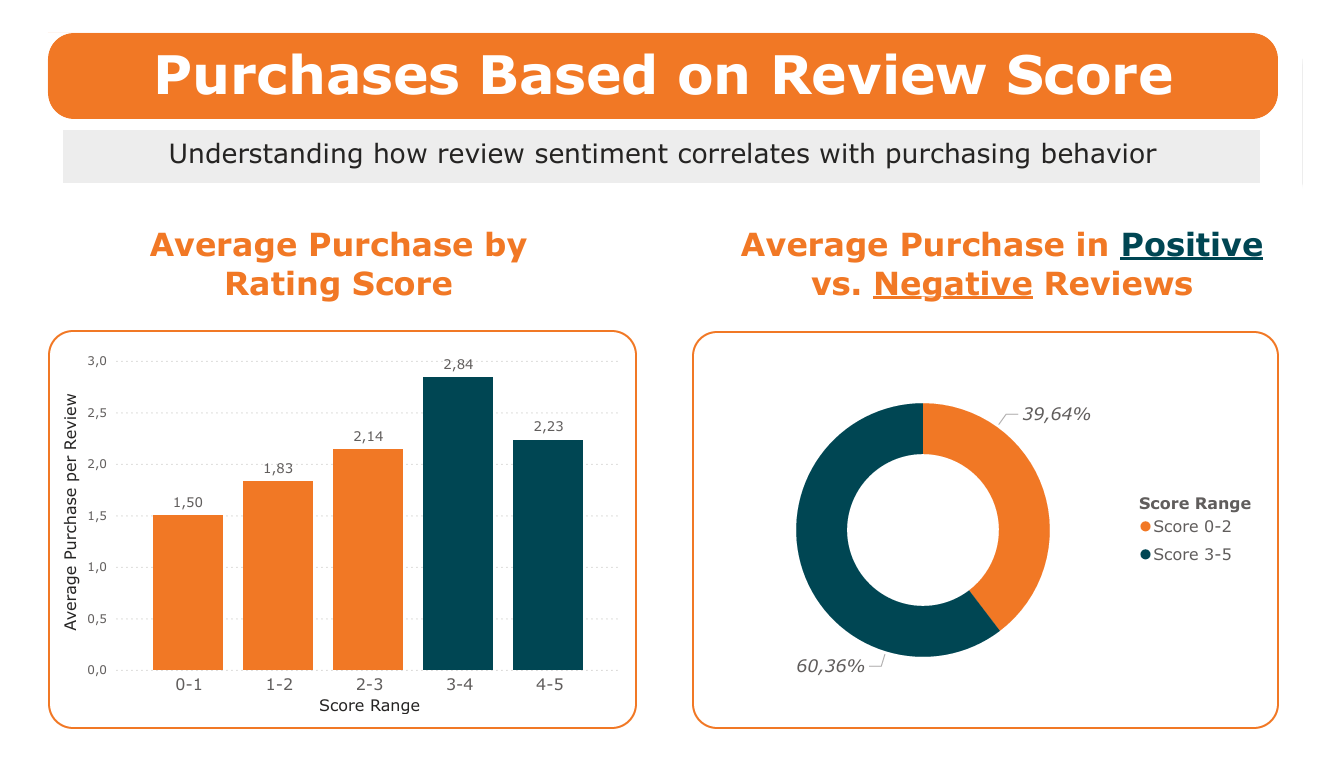

What the dashboard file says about the page in this screenshot:
{"tool":"powerbi","page":{"name":"Purchases Per Review Score","canvas":[1280,720],"ordinal":1},"visuals":[{"type":"shape","box":[25,8.8,1230,86.2],"z":0},{"type":"textbox","box":[41.1,11.1,1197.8,82.2],"z":1000},{"type":"textbox","box":[40.7,106.9,1197.5,53.4],"z":2000},{"type":"columnChart","fields":{"Category":["Reviews_AvgPurchases.ScoreRange"],"Y":["Sum(Reviews_AvgPurchases.AveragePurchases)"]},"box":[25,306.2,588.8,398.8],"z":3000},{"type":"donutChart","fields":{"Y":["Reviews_AvgPurchases.Avg 0-2 Purchases","Reviews_AvgPurchases.Avg 3-5 Purchases"]},"box":[669,306.6,586.6,398.4],"z":4000},{"type":"textbox","box":[60.4,195.1,511.1,95.2],"z":5000},{"type":"textbox","box":[707.4,195.1,543.6,92.9],"z":6000}]}

Visuals, with their boxes in screenshot pixels (x1, y1, x2, y2), scaled from the page's 1280x720 canvas onto the 1325x766 screenshot:
shape: {"x1": 26, "y1": 9, "x2": 1299, "y2": 101}
textbox: {"x1": 43, "y1": 12, "x2": 1282, "y2": 99}
textbox: {"x1": 42, "y1": 114, "x2": 1282, "y2": 171}
columnChart - Reviews_AvgPurchases.ScoreRange x Sum(Reviews_AvgPurchases.AveragePurchases): {"x1": 26, "y1": 326, "x2": 635, "y2": 750}
donutChart - Reviews_AvgPurchases.Avg 0-2 Purchases x Reviews_AvgPurchases.Avg 3-5 Purchases: {"x1": 693, "y1": 326, "x2": 1300, "y2": 750}
textbox: {"x1": 63, "y1": 208, "x2": 592, "y2": 309}
textbox: {"x1": 732, "y1": 208, "x2": 1295, "y2": 306}
